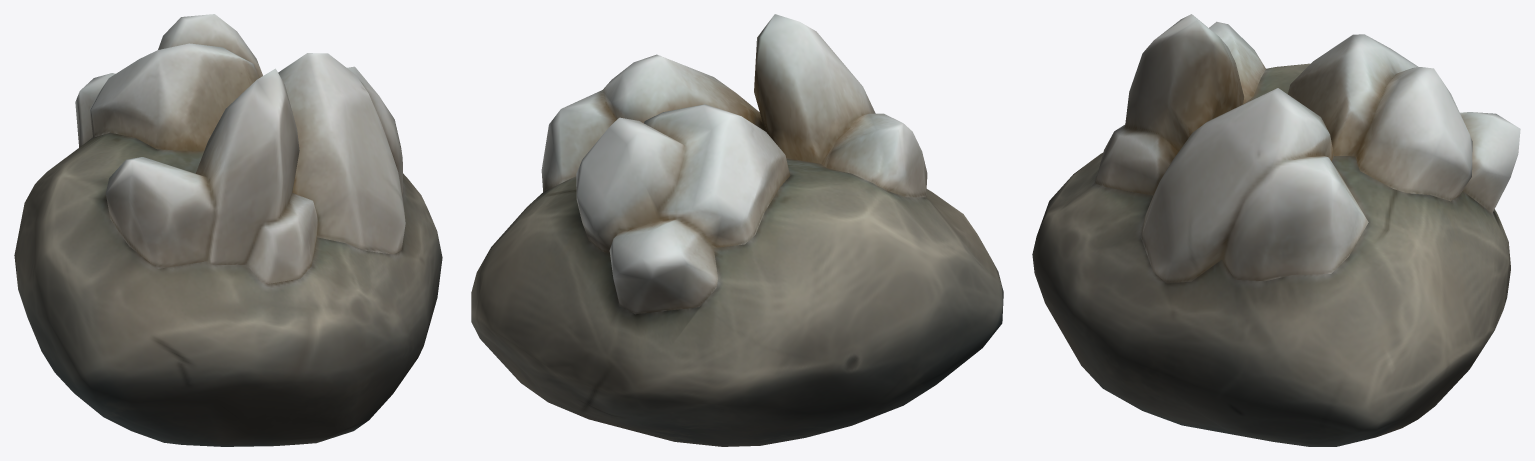
File: SM_Gem_Silver_009.fbx
The picture shows the model from 3 angles, left to right: view 1: azimuth 30°, elevation 25°; view 2: azimuth 150°, elevation 25°; view 3: azimuth 270°, elevation 25°; orthographic projection. The views are drawn at different scales.
Visible parts, largest first — view 1: SM_Gem_Silver_009; view 2: SM_Gem_Silver_009; view 3: SM_Gem_Silver_009.
Part boxes in pixels (box(x1,y1,x2,y2)): SM_Gem_Silver_009: box(14, 14, 442, 446); SM_Gem_Silver_009: box(471, 14, 1003, 446); SM_Gem_Silver_009: box(1032, 14, 1520, 446).
Size of the model in its own units: 56.79 by 46.98 by 54.94.
